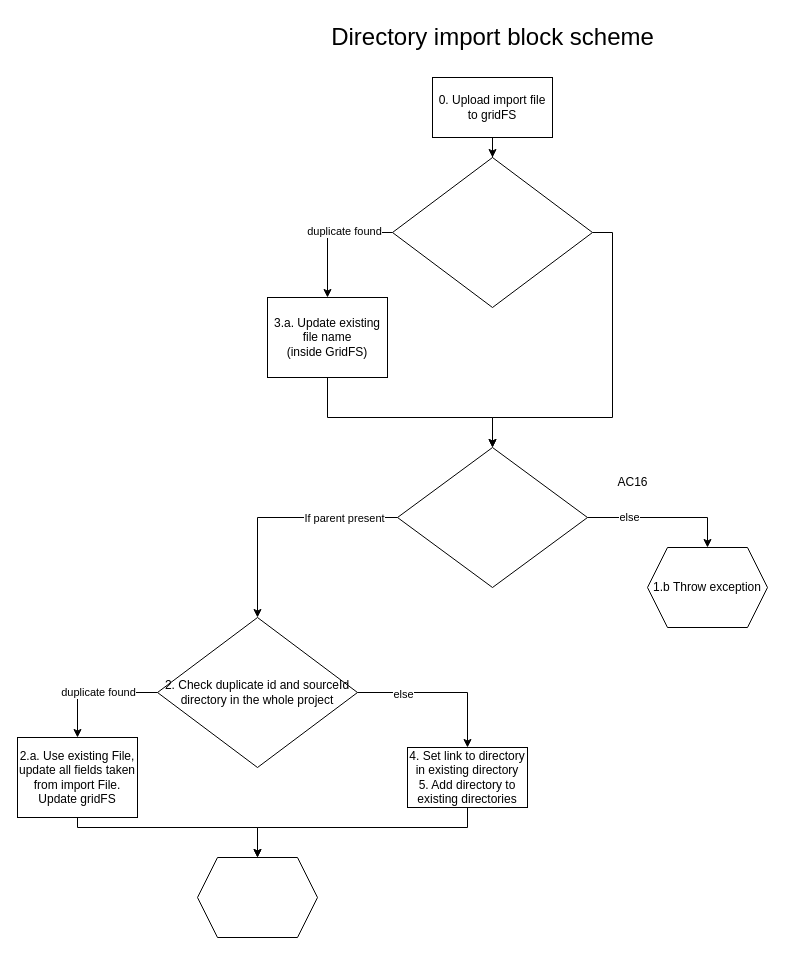
This 785x955 diagram has some shape labels left out. The shapes that lost their labels are listed below. From the top down, each one's centre as x and y in pixels, then its label:
point 492,232: 3. Check duplicate directory name in same directory
point 492,517: 1. Find current directory by Id and sourceId
point 257,897: end
